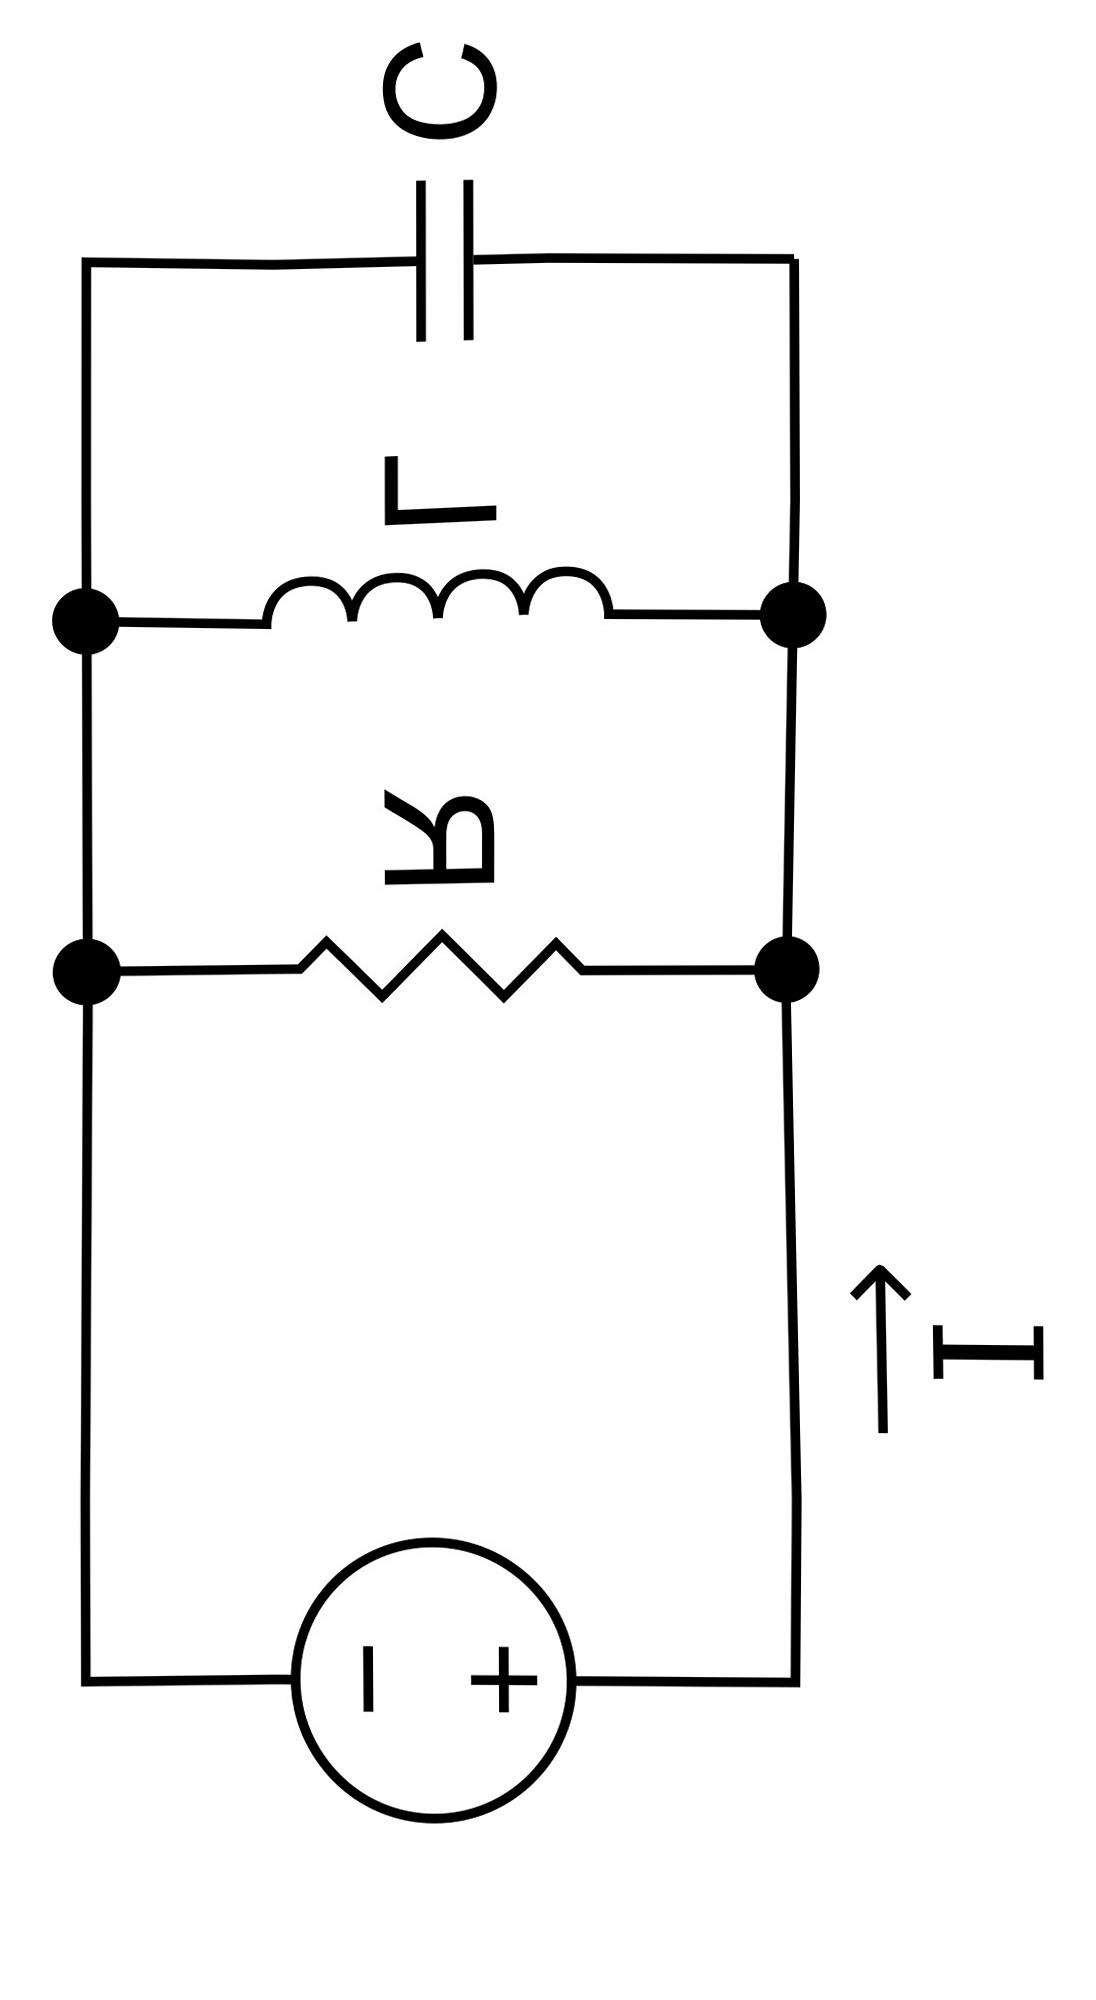Battery: (234, 1501, 624, 1906)
